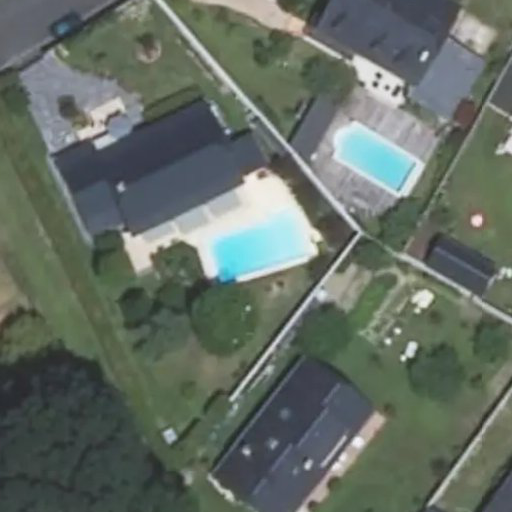pool: (202, 229, 306, 253)
